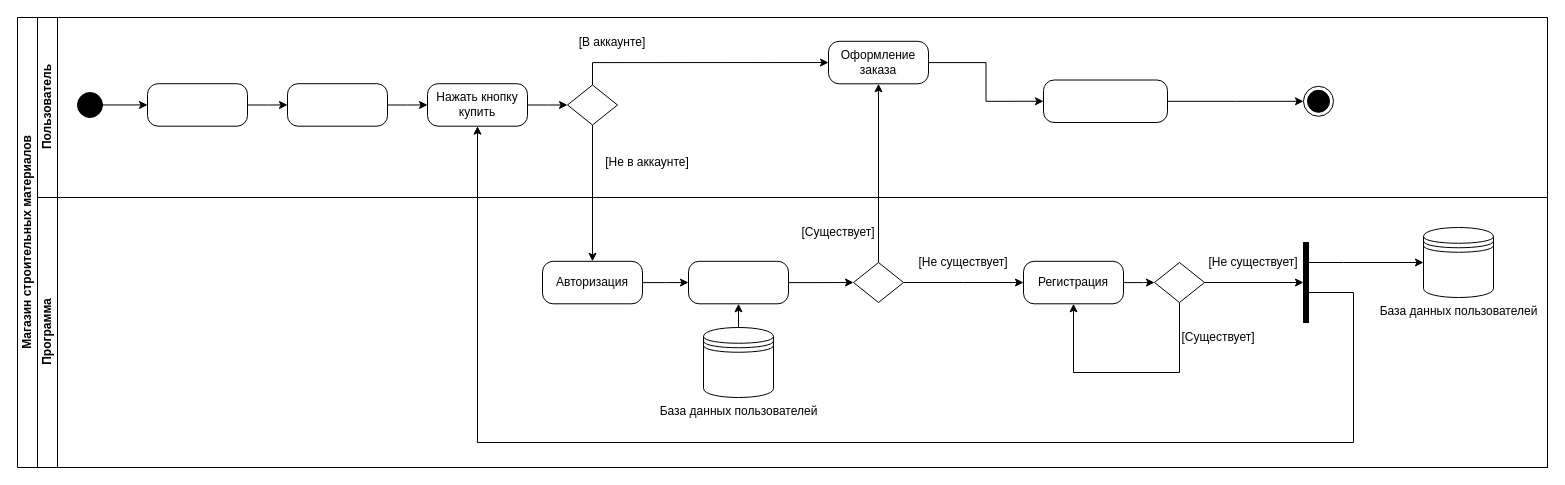
The diagram is 1565 pixels wide and 485 high, and some of its shapes have lost their labels. The centre of each missing label's shape, as x and y in pixels:
"Зайти на сайт" goes at pixel 197 104.
"Посмотреть состояние заказа" goes at pixel 1105 100.
"Посмотреть товары" goes at pixel 337 104.
"Считвание из базы данных" goes at pixel 738 282.
